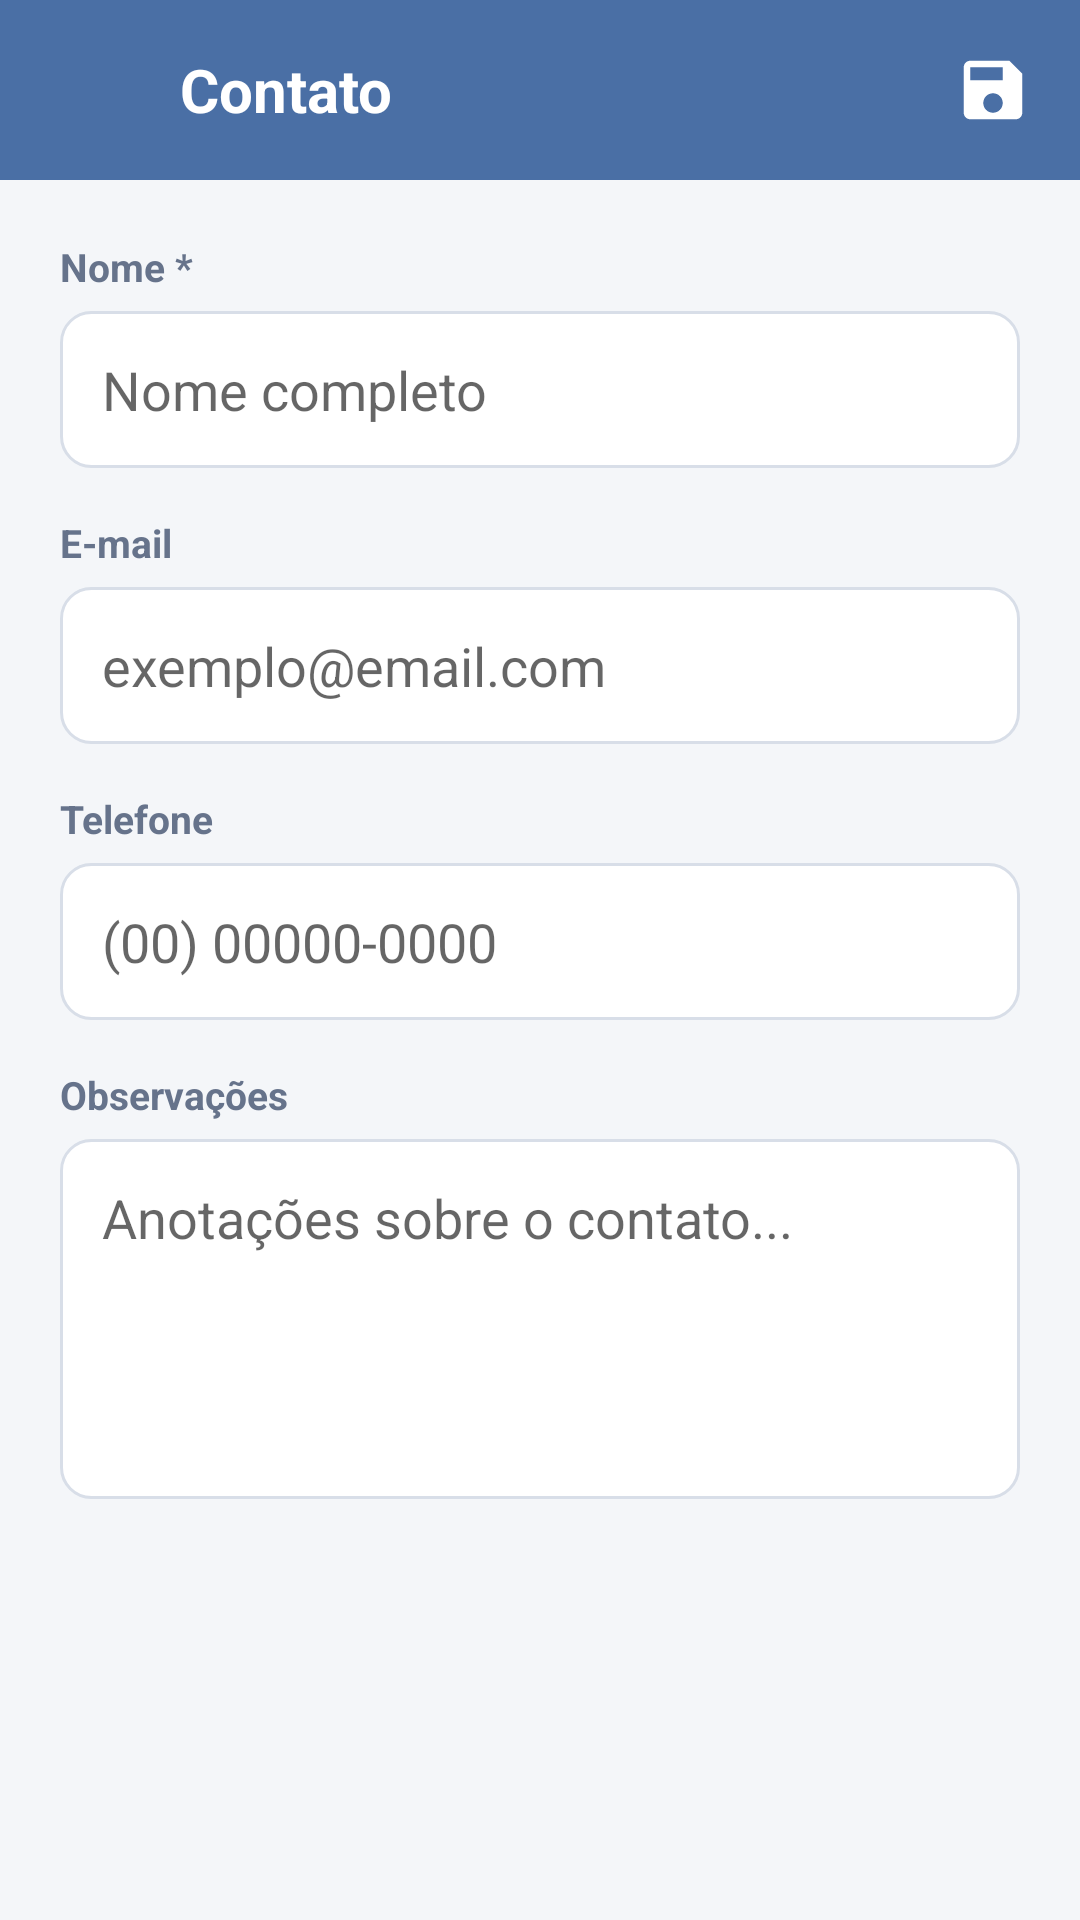

Point at icon controls on the screen. Image size 1080*1920, points as (x=x, y=y).
save: (x=993, y=90)
